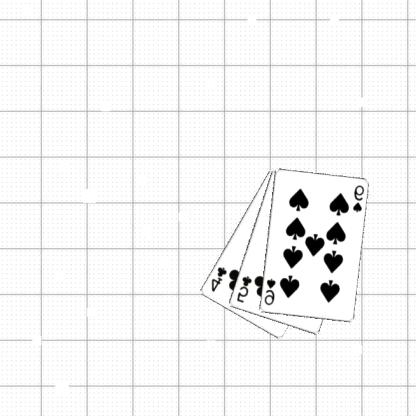4C: (210, 264, 230, 293)
5C: (236, 274, 254, 304)
9S: (263, 276, 279, 307), (352, 182, 367, 214)
